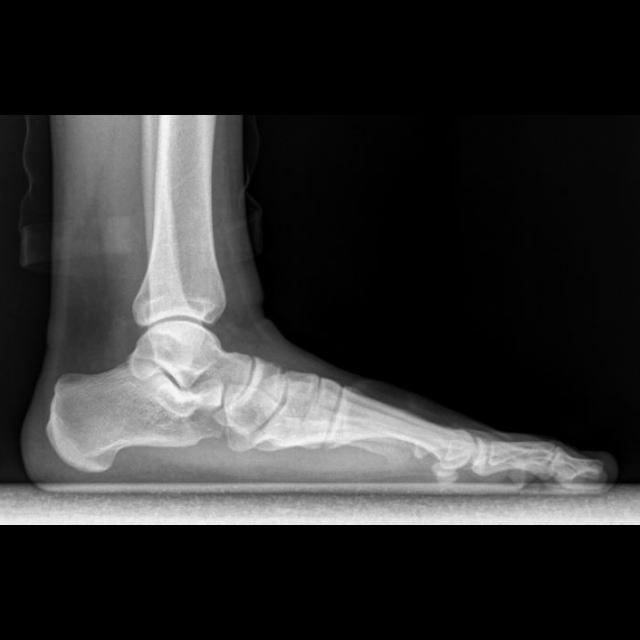a: (46, 365, 222, 473)
b: (222, 356, 288, 438)
c: (321, 385, 472, 487)
